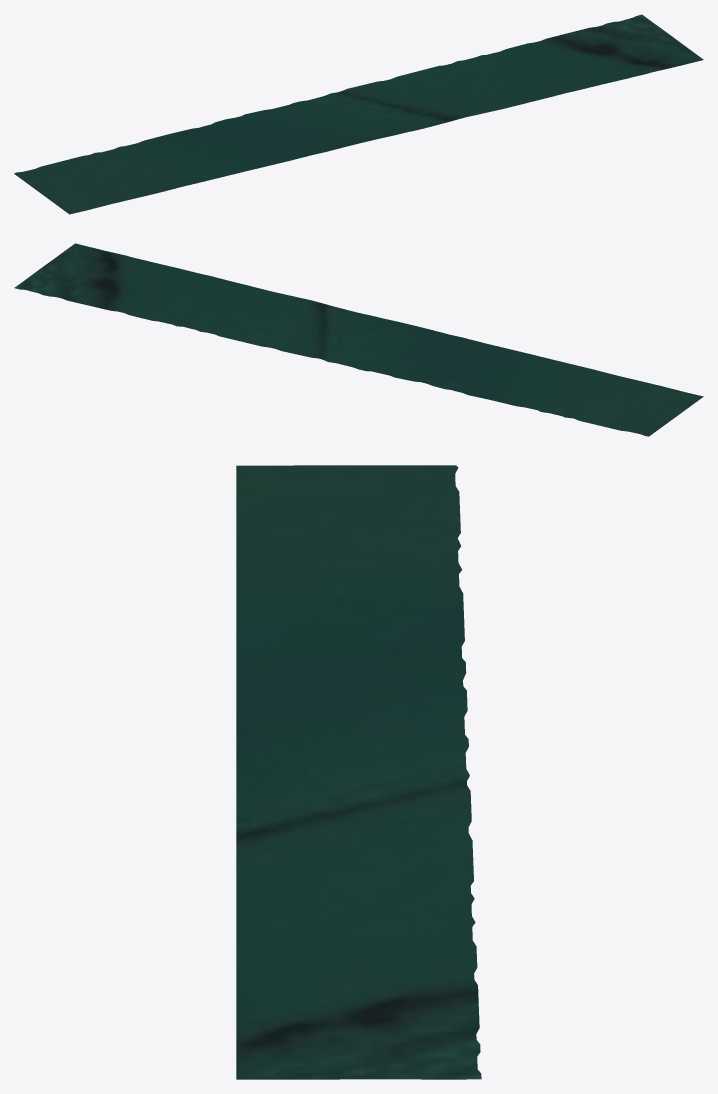
The picture shows the model from 3 angles, top to bottom: view 1: azimuth 30°, elevation 25°; view 2: azimuth 150°, elevation 25°; view 3: azimuth 270°, elevation 25°; orthographic projection. The views are drawn at different scales.
Size of the model in its own units: 418 by 0.735 by 70.55.
Materials: 1 (1 with a texture image).
